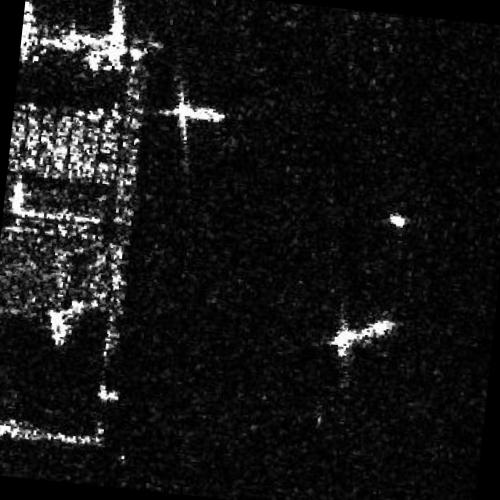ship: (328, 317, 402, 354), (169, 102, 226, 125)
